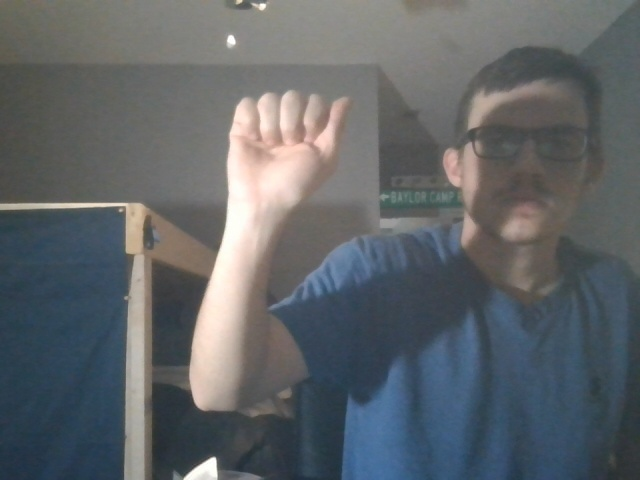A: (221, 84, 371, 209)
